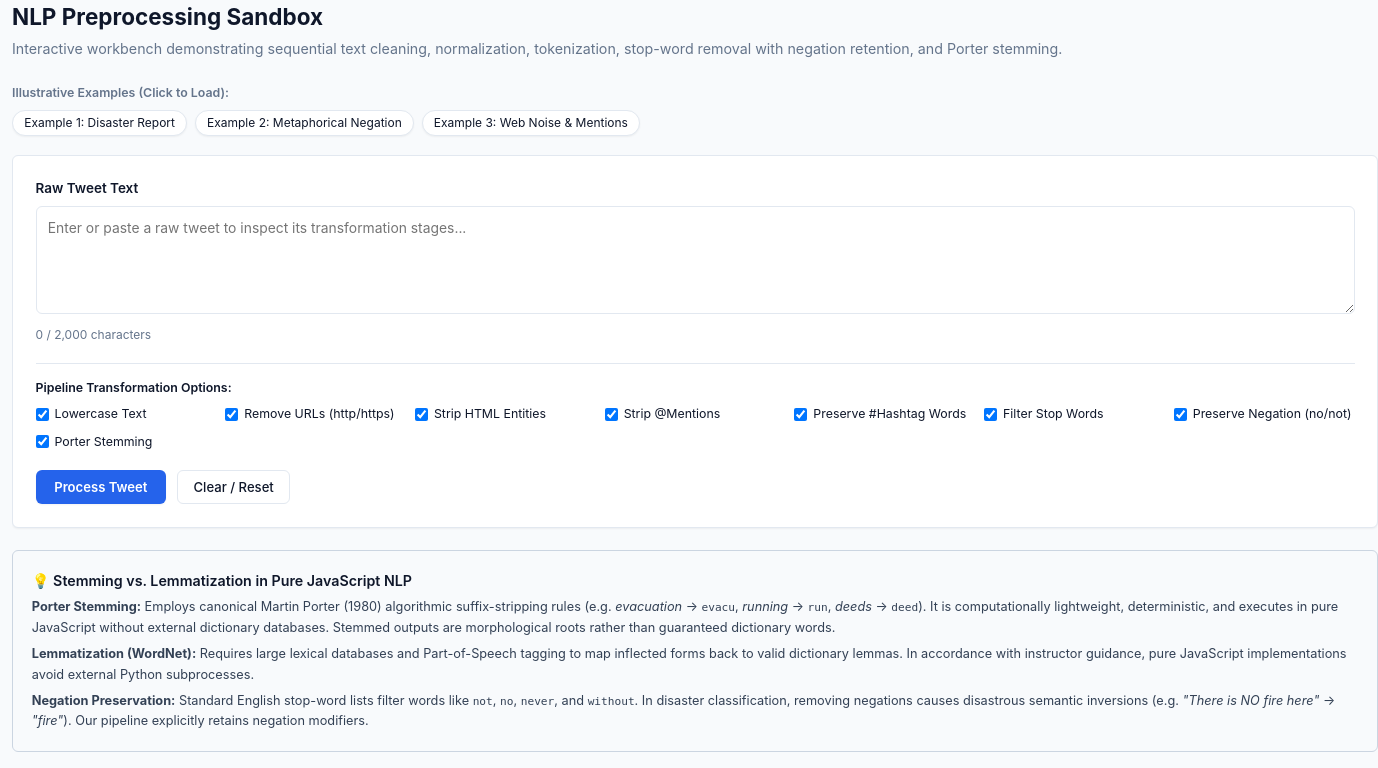
Test: PreprocessingSandbox Page Component Tests (T15) › successfully processes tweet and renders all 6 transformation stages
Replace the text in the text box with placeholder "Enter or paste a raw tweet to inspect" with "Our deeds are the reason of this #earthquake May ALLAH Forgive us all" at {"x": 695, "y": 260}, box [36,206,1354,314]
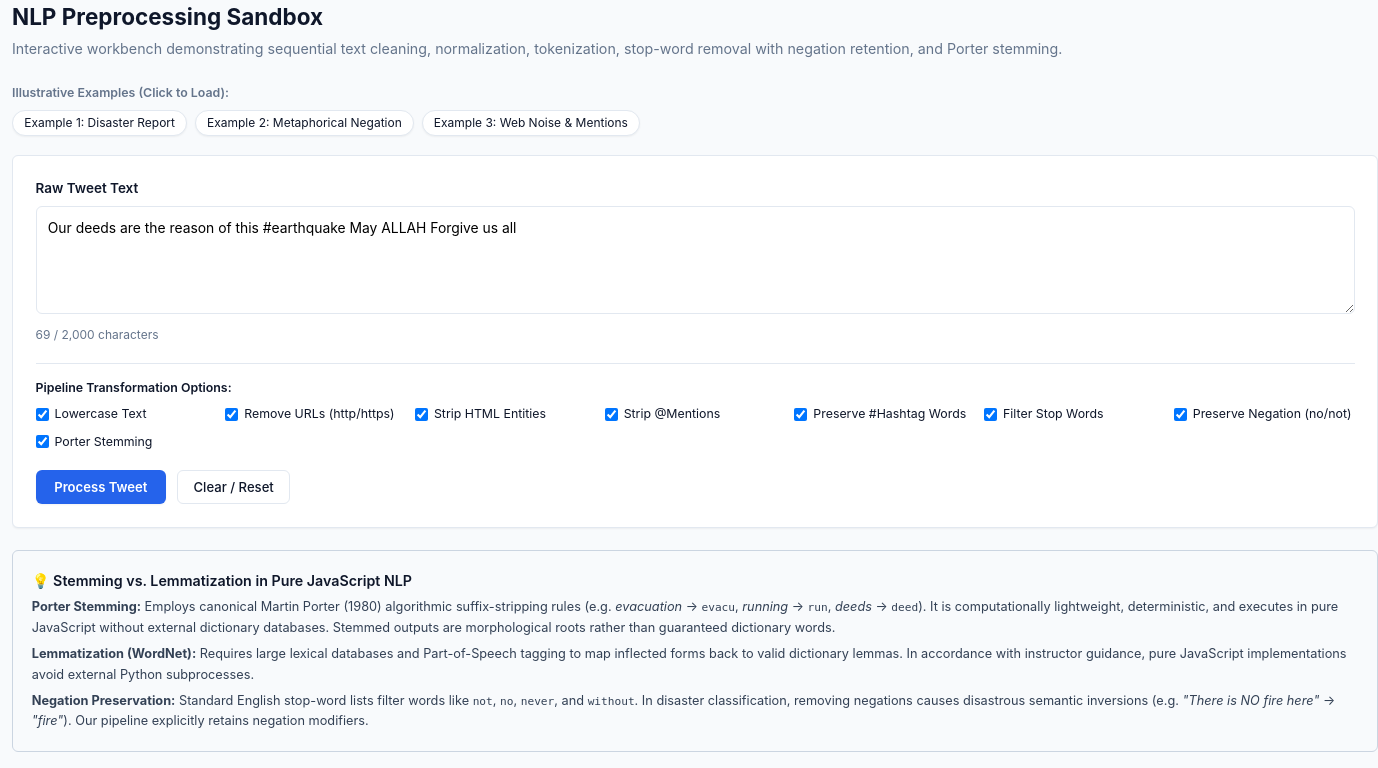
Click the button "Process Tweet" at {"x": 101, "y": 487}, box [36,470,166,504]
(page scrolled)
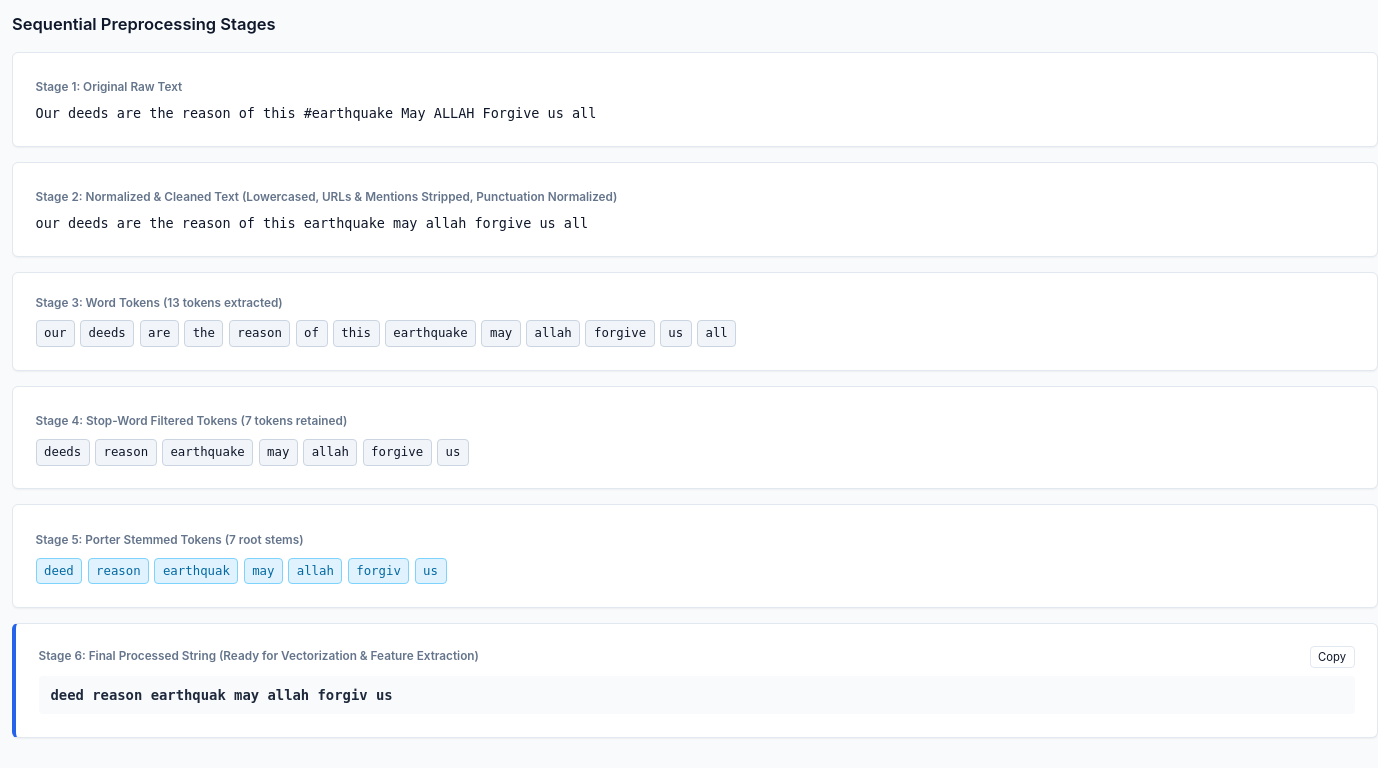
Expected: the text "Stage 1: Original Raw Text" is shown, [36,80,182,94]
Expected: the text "Stage 2: Normalized & Cleaned Text" is shown, [36,190,618,204]
Expected: the text "Stage 3: Word Tokens (13 tokens extracted)" is shown, [36,295,283,313]
